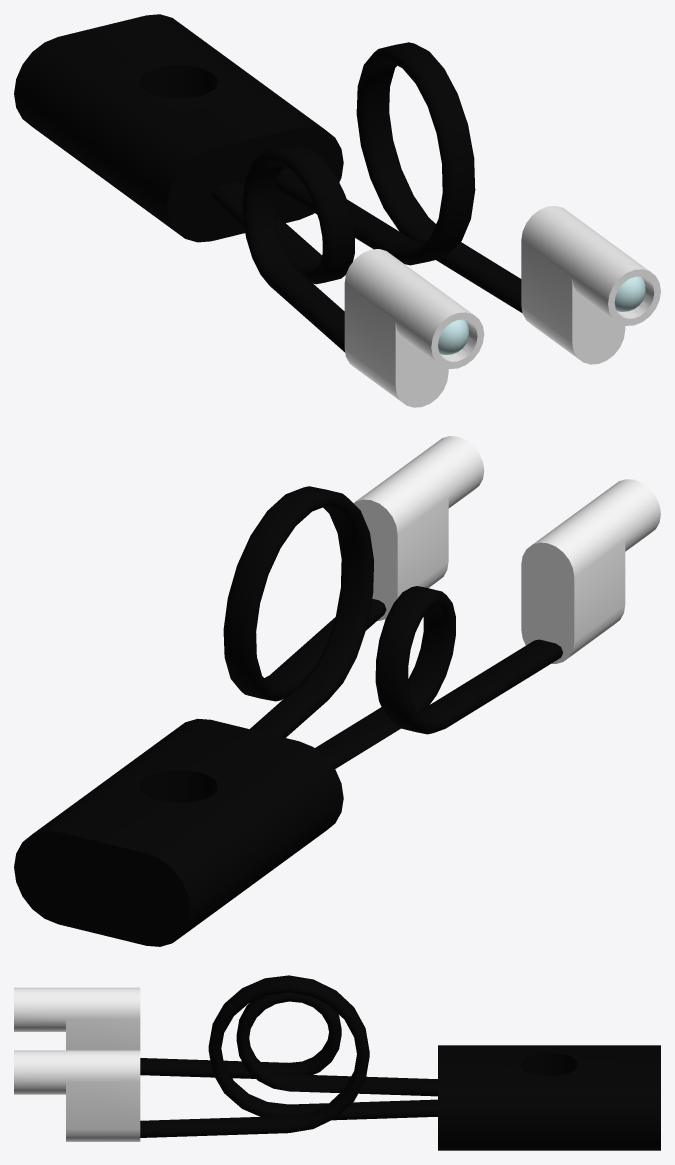
The model's file is White Light.fbx.
3 views of the same model, one above another, from view 1: azimuth 30°, elevation 25°; view 2: azimuth 150°, elevation 25°; view 3: azimuth 270°, elevation 25° (orthographic). The views are drawn at different scales.
Visible parts, largest first — view 1: White Light Connector, White Light Wire Left, White Light Right, White Light Left, White Light Wire Right; view 2: White Light Connector, White Light Wire Left, White Light Right, White Light Wire Right, White Light Left; view 3: White Light Connector, White Light Wire Left, White Light Left, White Light Wire Right, White Light Right.
Part boxes in pixels (<box>): White Light Connector: <box>14,14,343,242</box>; White Light Wire Left: <box>276,42,522,312</box>; White Light Right: <box>344,249,484,407</box>; White Light Left: <box>521,205,660,364</box>; White Light Wire Right: <box>211,143,354,352</box>; White Light Connector: <box>14,718,343,946</box>; White Light Wire Left: <box>223,486,386,737</box>; White Light Right: <box>521,479,660,663</box>; White Light Wire Right: <box>315,586,562,768</box>; White Light Left: <box>353,436,484,620</box>; White Light Connector: <box>438,1045,660,1150</box>; White Light Wire Left: <box>140,975,437,1137</box>; White Light Left: <box>14,1050,140,1141</box>; White Light Wire Right: <box>140,992,437,1096</box>; White Light Right: <box>14,987,140,1050</box>.
Size of the model in its own units: 2.08 by 2.06 by 6.96.
